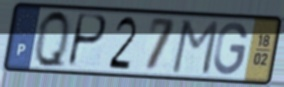2: (107, 15, 140, 72)
7: (144, 15, 179, 73)
G: (212, 21, 250, 77)
M: (169, 18, 221, 78)
P: (65, 12, 109, 70)
Q: (33, 7, 72, 72)
